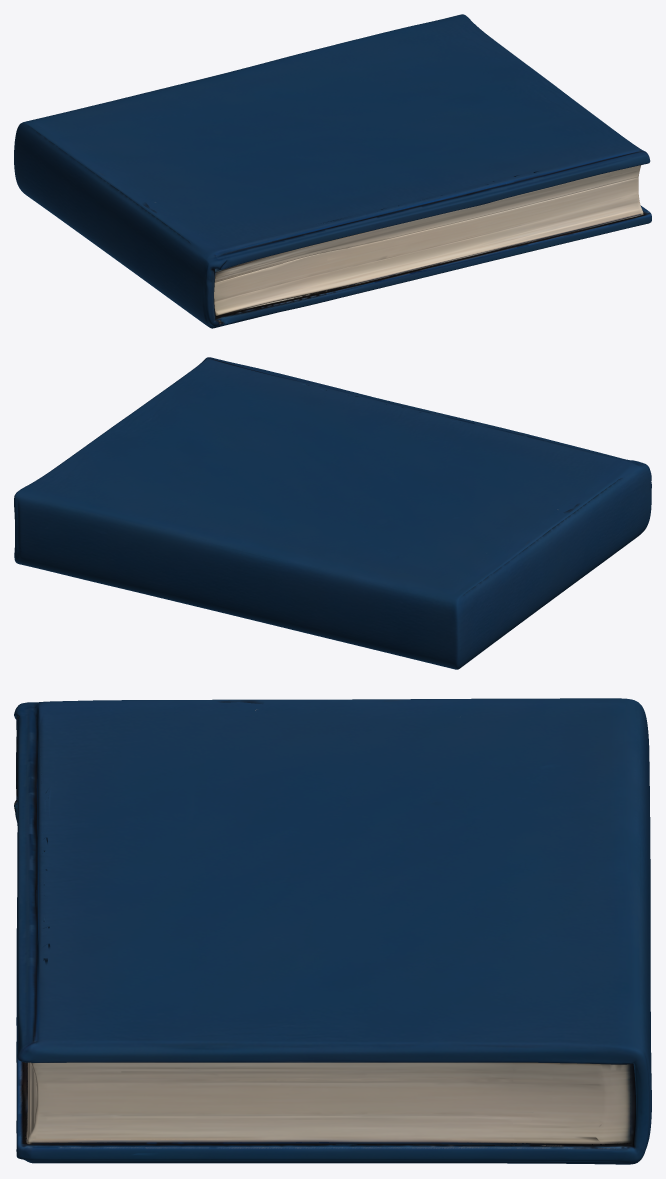
The picture shows the model from 3 angles, top to bottom: view 1: azimuth 30°, elevation 25°; view 2: azimuth 150°, elevation 25°; view 3: azimuth 270°, elevation 25°; orthographic projection. The views are drawn at different scales.
Parts seen in each view (by area): view 1: node_0; view 2: node_0; view 3: node_0.
Part boxes in pixels (x1,y1,x2,y2): node_0: [14, 14, 651, 328]; node_0: [14, 357, 651, 669]; node_0: [14, 698, 651, 1164].
Bounding box in the file's own units: 0.9637 × 0.1513 × 0.7297.
1 material, 1 textured.
